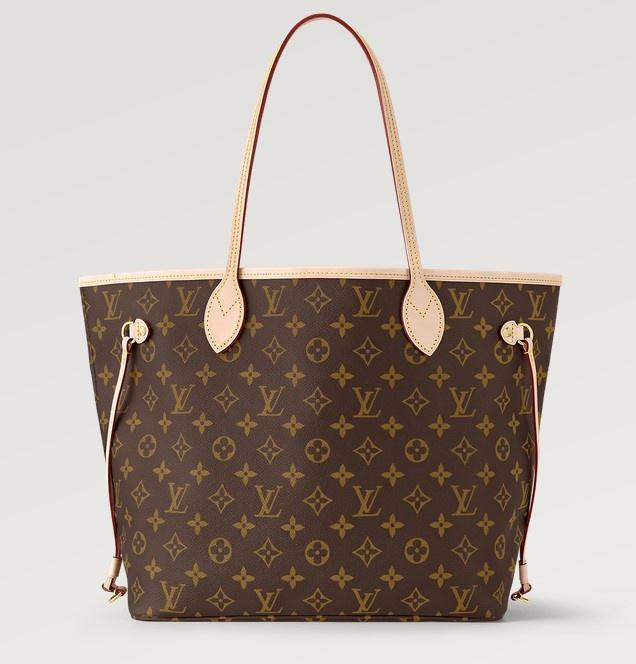LOUIS-VUITTON: (73, 273, 556, 617)
